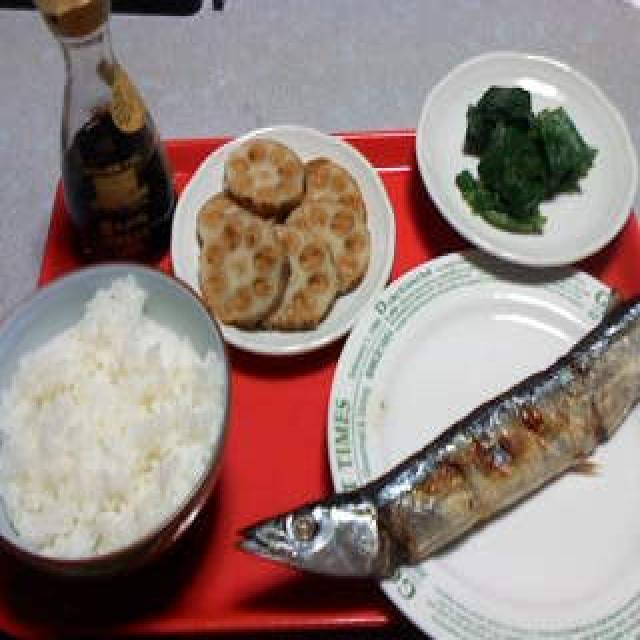Rice: (0, 266, 228, 561)
